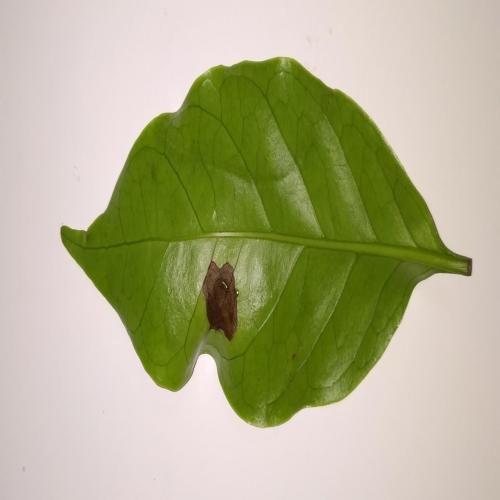miner: (202, 259, 238, 341)
